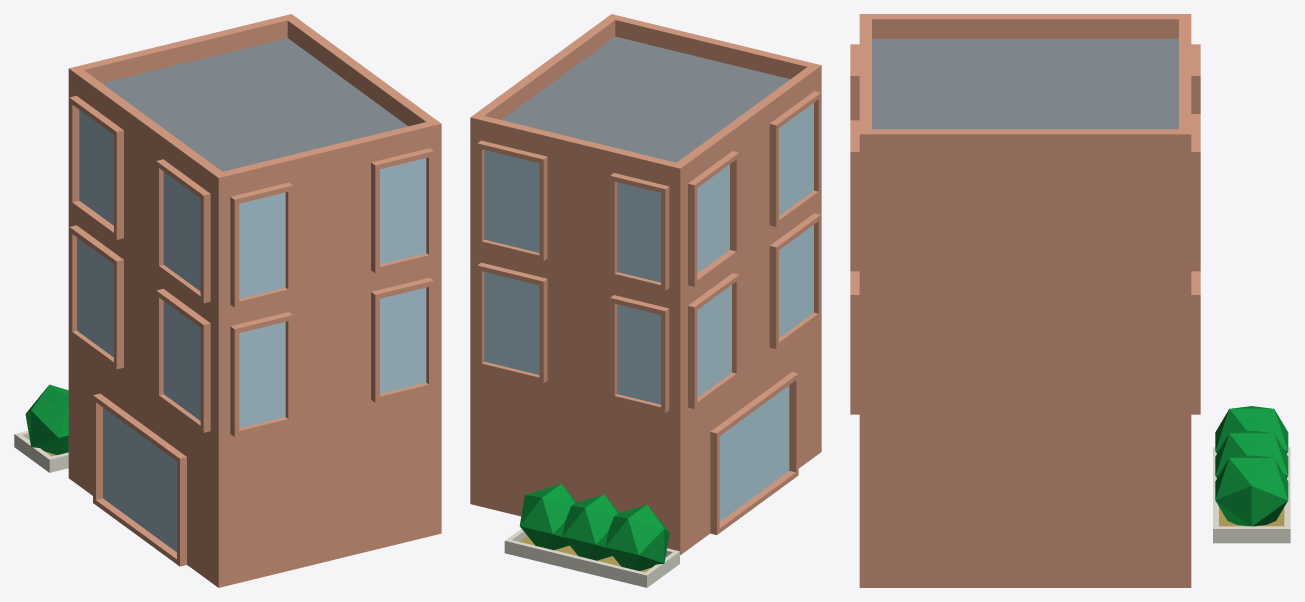
File: 建筑物8.fbx
3 views of the same model, side by side, from view 1: azimuth 30°, elevation 25°; view 2: azimuth 150°, elevation 25°; view 3: azimuth 270°, elevation 25° (orthographic). The views are drawn at different scales.
Visible parts, largest first — view 1: 右花1_1; view 2: 右花1_1; view 3: 右花1_1.
Part boxes in pixels (x1,y1,x2,y2): 右花1_1: (14,14,441,587); 右花1_1: (470,14,821,587); 右花1_1: (850,14,1290,587).
Size of the model in its own units: 975 by 1637 by 1439.
